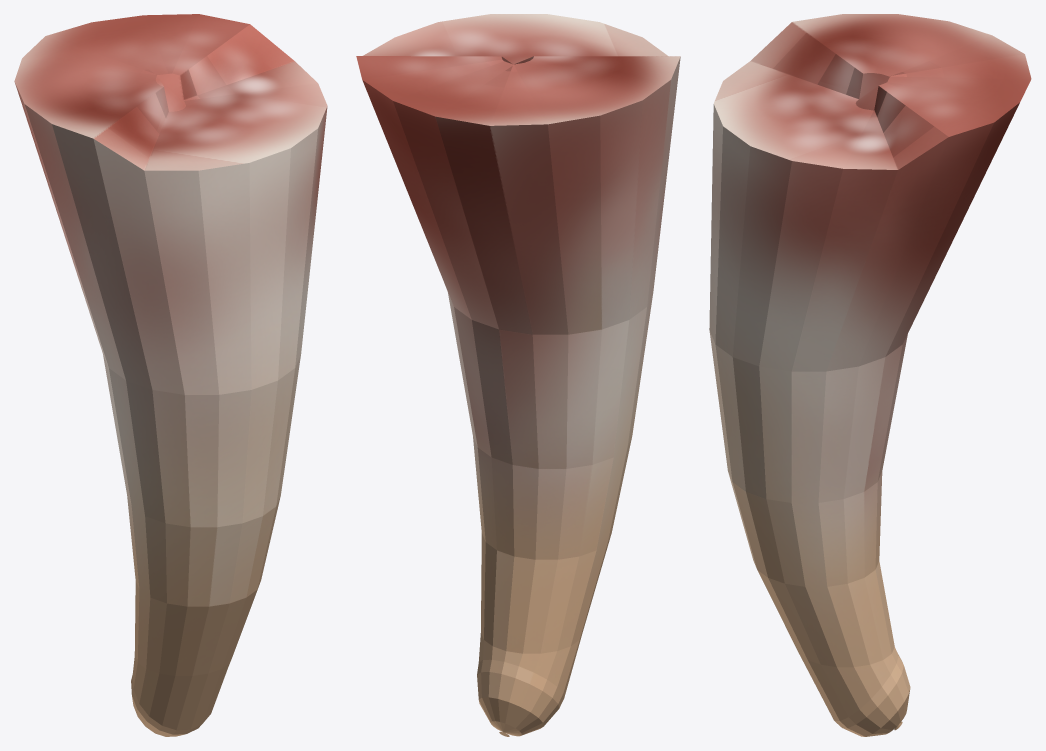
The model's file is CERDO.fbx.
3 renders of one model, left to right at view 1: azimuth 30°, elevation 25°; view 2: azimuth 150°, elevation 25°; view 3: azimuth 270°, elevation 25°, orthographic. The views are drawn at different scales.
Parts seen in each view (by area): view 1: Cone; view 2: Cone; view 3: Cone.
Boxes of the visible parts, x1,y1,x2,y2 form: Cone: (14, 14, 327, 736); Cone: (356, 14, 680, 736); Cone: (709, 14, 1031, 736).
Bounding box in the file's own units: 36.03 × 82.99 × 36.98.
1 material, 1 textured.
